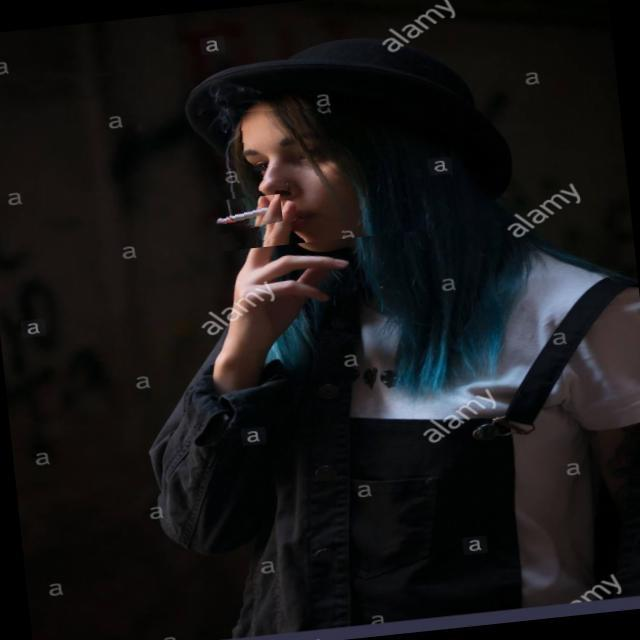cigarette: (201, 193, 283, 238)
